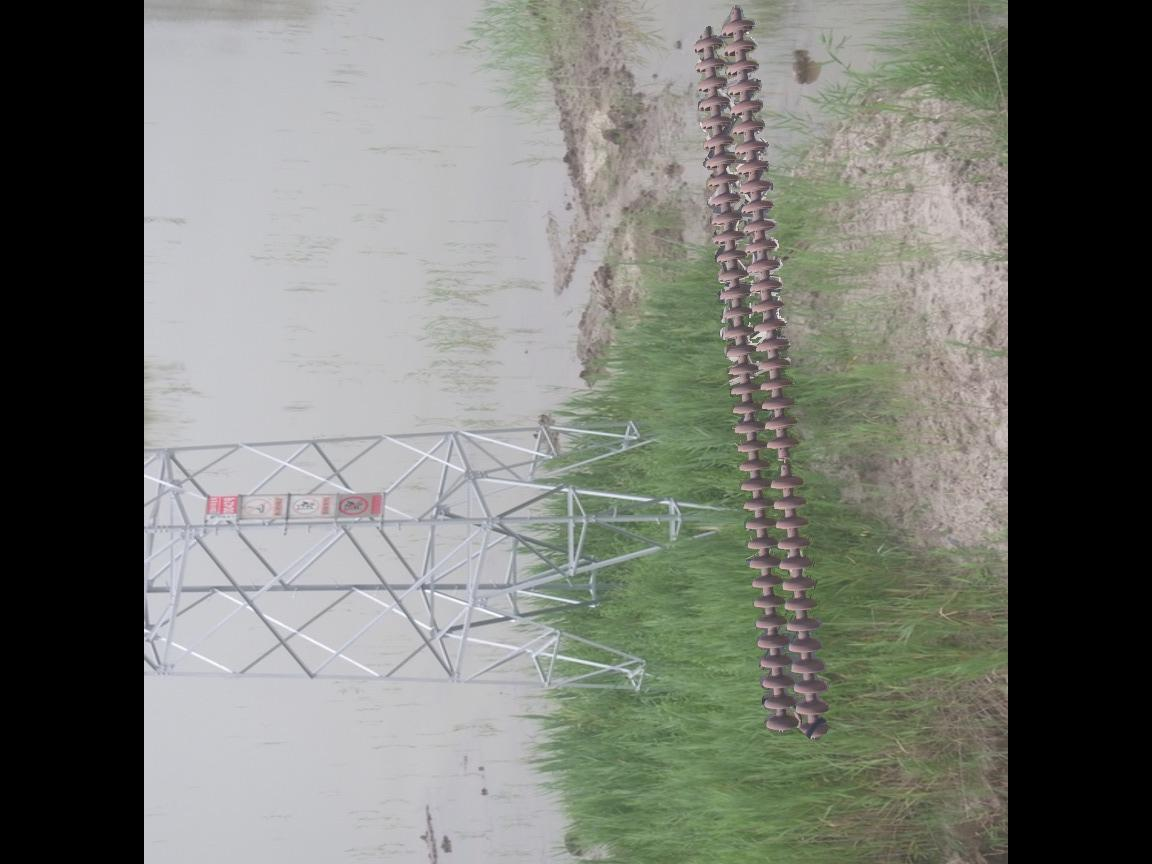insulator: (689, 14, 834, 747)
insulator_stringdrop: (763, 431, 807, 495)
